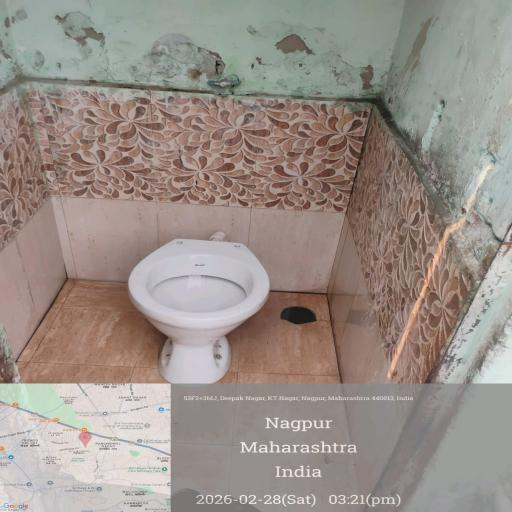clean_western: (140, 230, 277, 388)
partial_dirty_floor: (36, 263, 372, 506), (41, 23, 508, 179)
